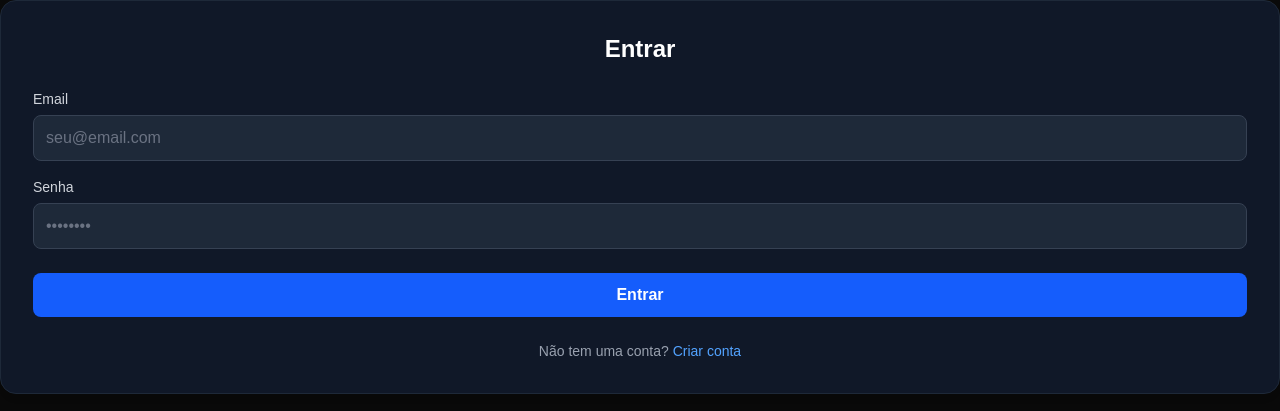
Test case: Auth pages – Unit Tests (Task 12.2) › LoginPage › displays "Email ou senha incorretos." when signInWithPassword returns invalid_credentials error
Step 1. Type "test@example.com" into the field labelled "Email" → (640, 138), box [33,115,1247,161]
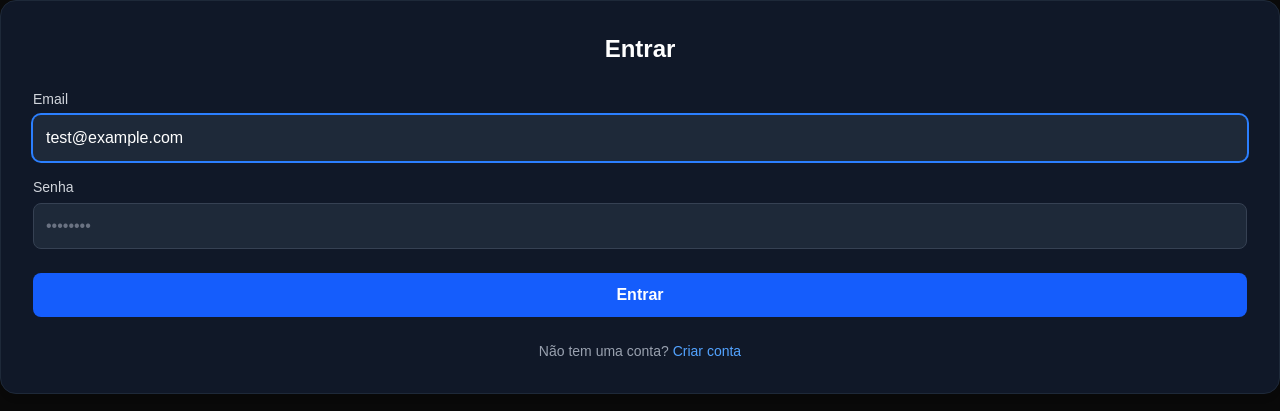
Step 2. Type "wrongpassword" into the password field labelled "Senha" → (640, 226), box [33,203,1247,249]
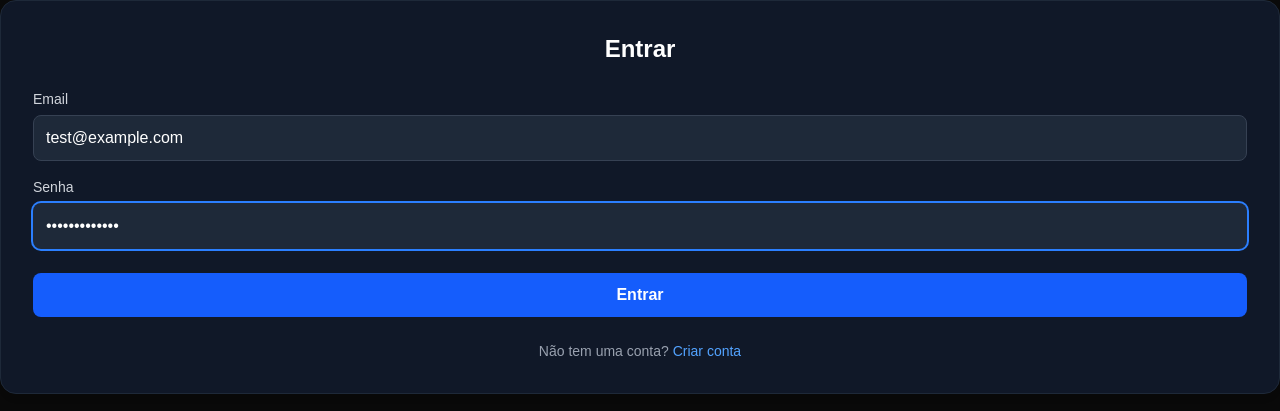
Step 3. Click the button "Entrar" → (640, 295), box [33,273,1247,317]
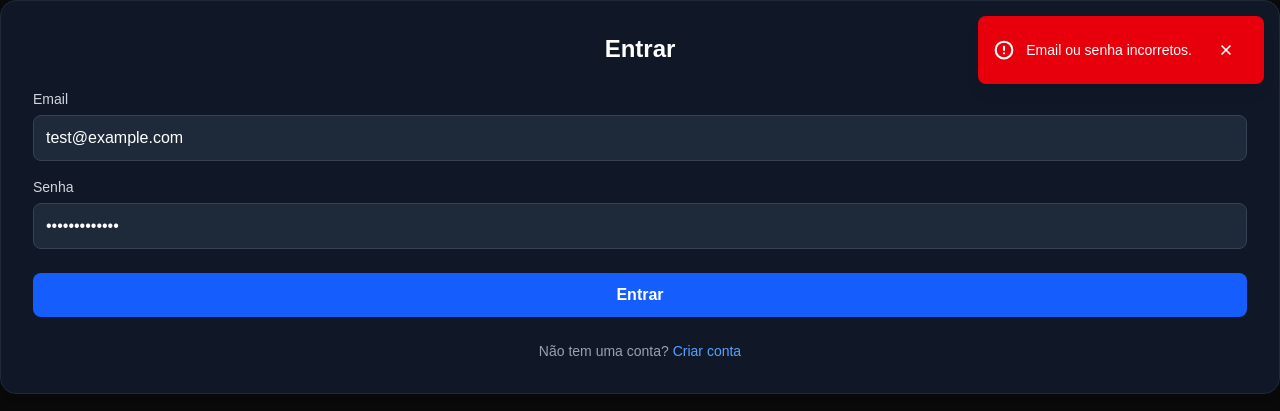
Check: the text "Email ou senha incorretos." is shown, box [1026,40,1192,60]
